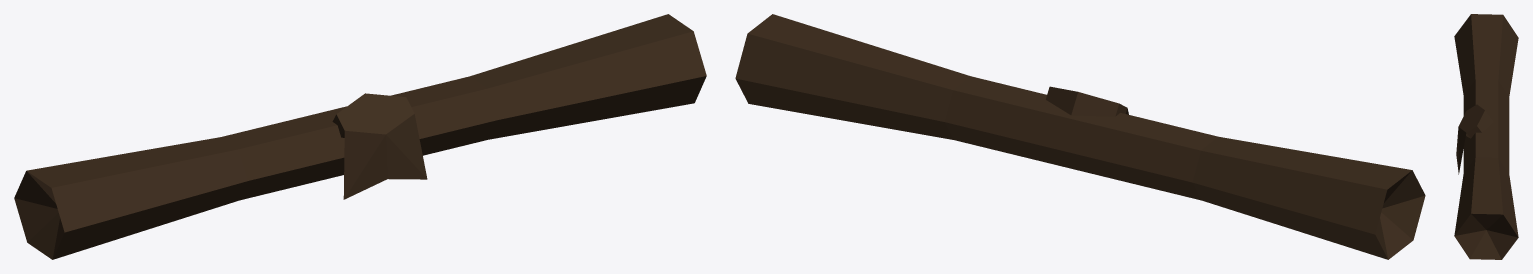
Rendered from NW_CITY_MAP_WAR_CLOSED_01.OBJ.
3 views of the same model, side by side, from view 1: azimuth 30°, elevation 25°; view 2: azimuth 150°, elevation 25°; view 3: azimuth 270°, elevation 25° (orthographic). The views are drawn at different scales.
Parts seen in each view (by area): view 1: NW_CITY_MAP_WAR_CLOSED_01; view 2: NW_CITY_MAP_WAR_CLOSED_01; view 3: NW_CITY_MAP_WAR_CLOSED_01.
Part boxes in pixels (x1,y1,x2,y2): NW_CITY_MAP_WAR_CLOSED_01: [14, 14, 706, 259]; NW_CITY_MAP_WAR_CLOSED_01: [735, 14, 1425, 259]; NW_CITY_MAP_WAR_CLOSED_01: [1454, 14, 1518, 259].
Size of the model in its own units: 1.51 by 0.1824 by 0.205.
